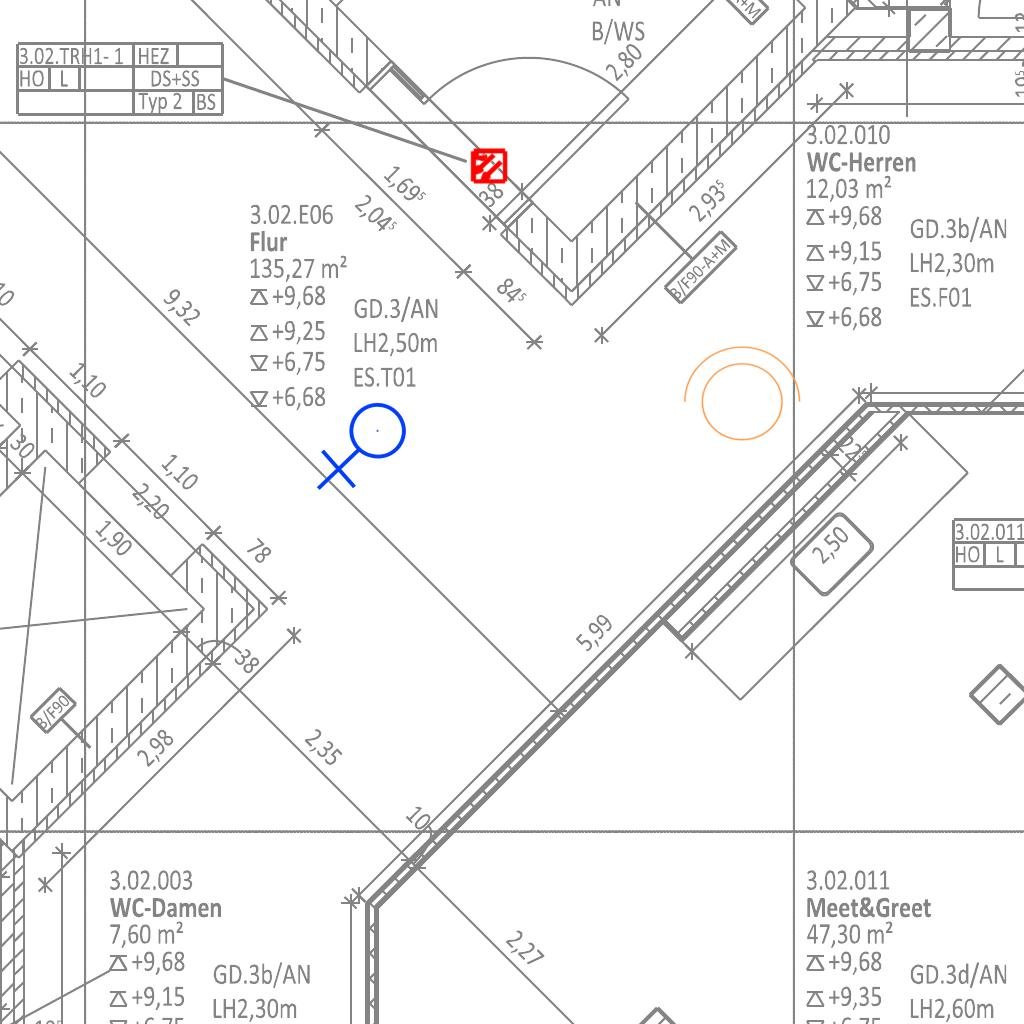Elektroanschluss_allgemein_230V_Geraeteanschlussdose_230V: (316, 401, 415, 495)
OT_Multisensormelder_(Kombination_RMO_WMD): (460, 138, 516, 194)
Scheinwerfer_fuer_Alarmbeleuchtung: (673, 341, 805, 453)
